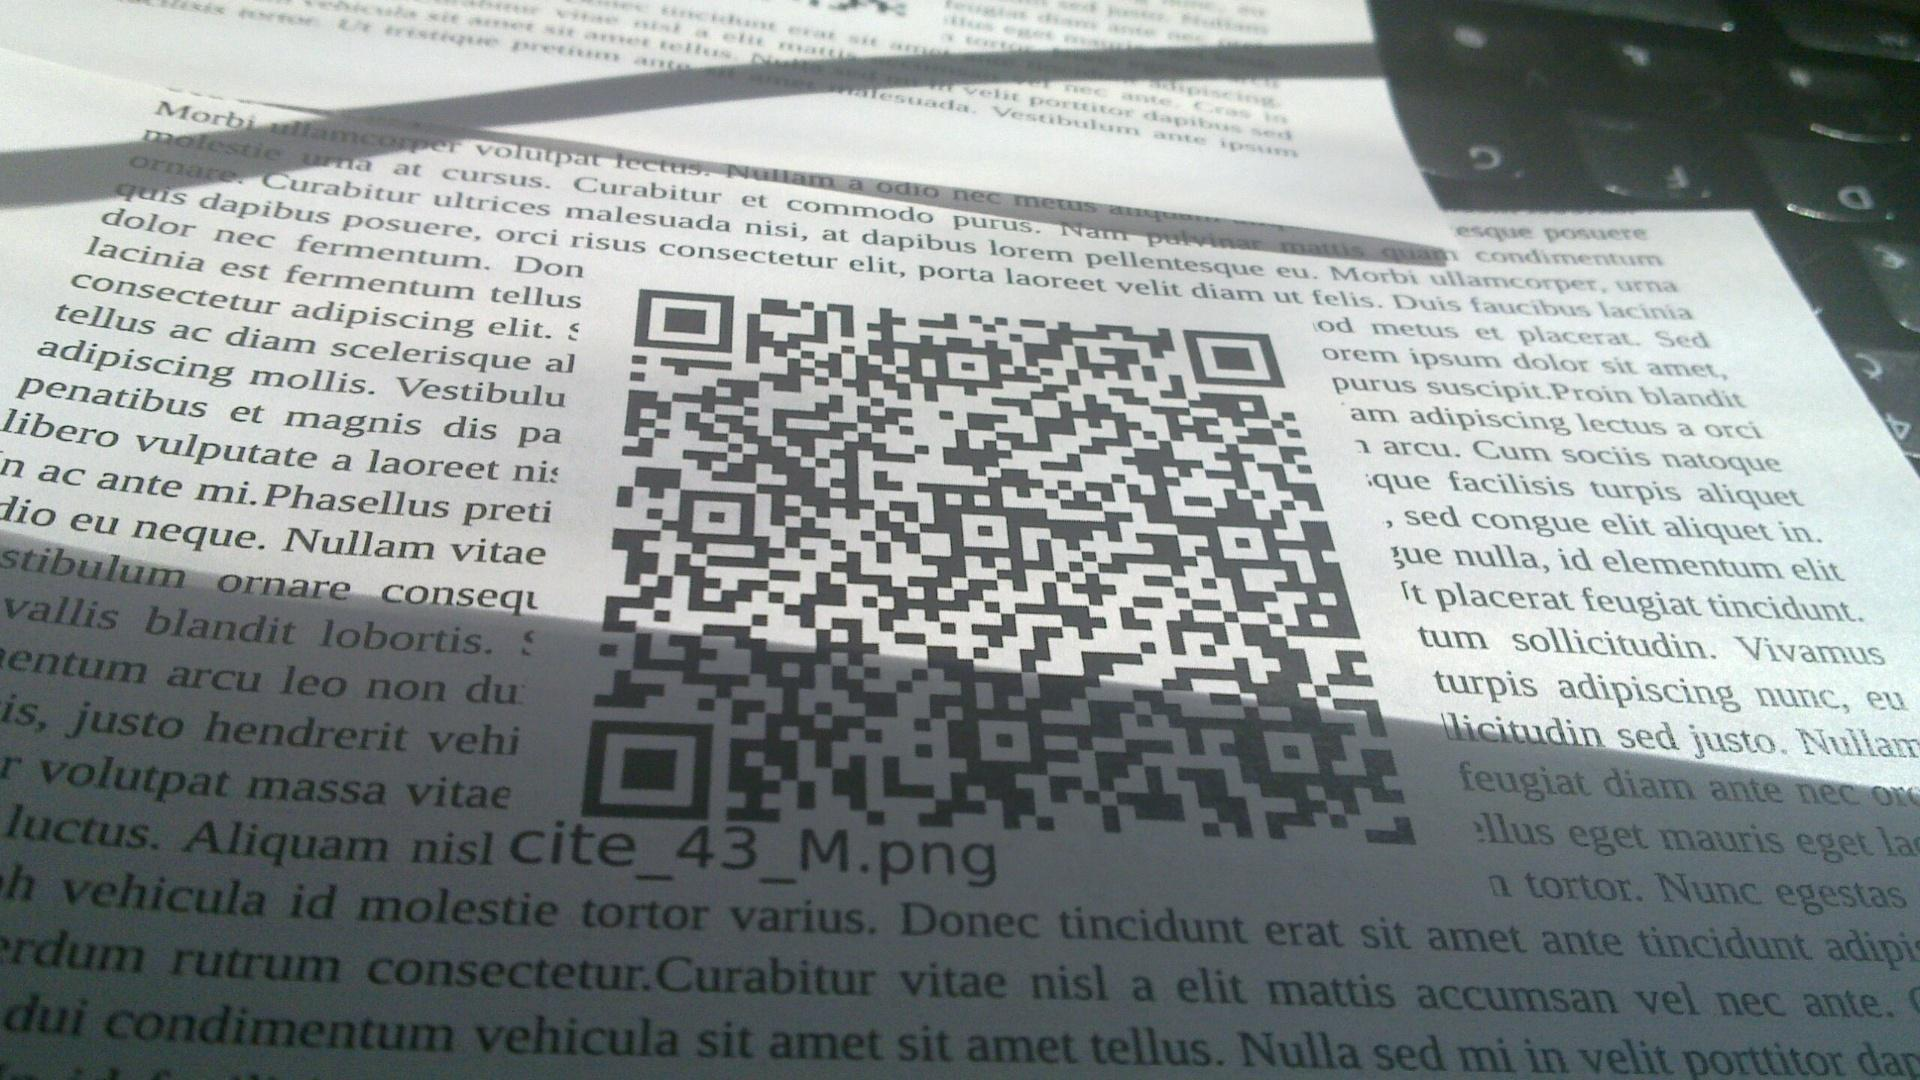Finder pattern: (584, 713, 717, 824), (632, 280, 742, 357), (1179, 322, 1291, 392)
